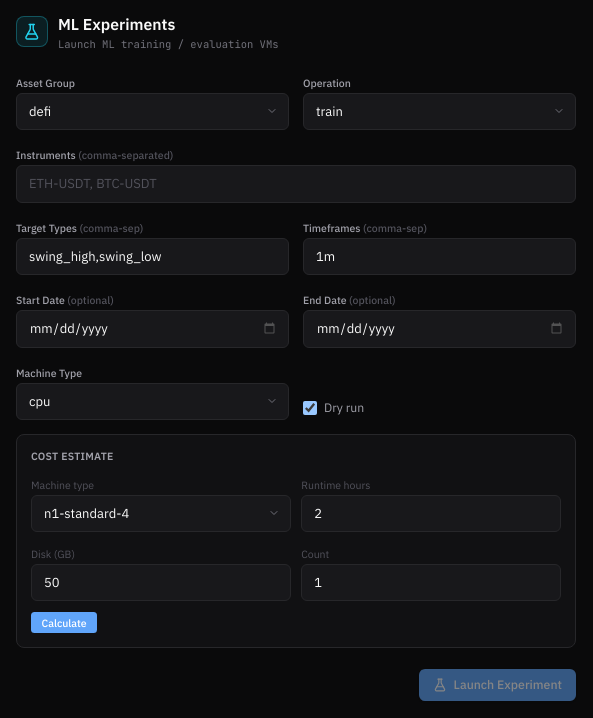
Test: MlExperiments › submit button re-enables after valid instrument is entered
Expected: the button with test id "launch-button" is disabled, [419,669,576,700]
Type "ETH-USDT" into the field with test id "instruments-input" at (296, 184), box [16,165,576,202]
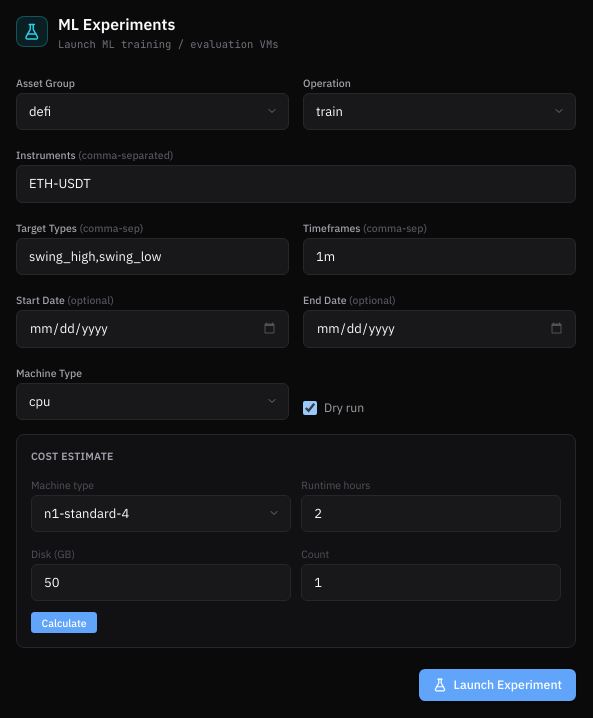
Now the button with test id "launch-button" is enabled, box [419,669,576,700]
